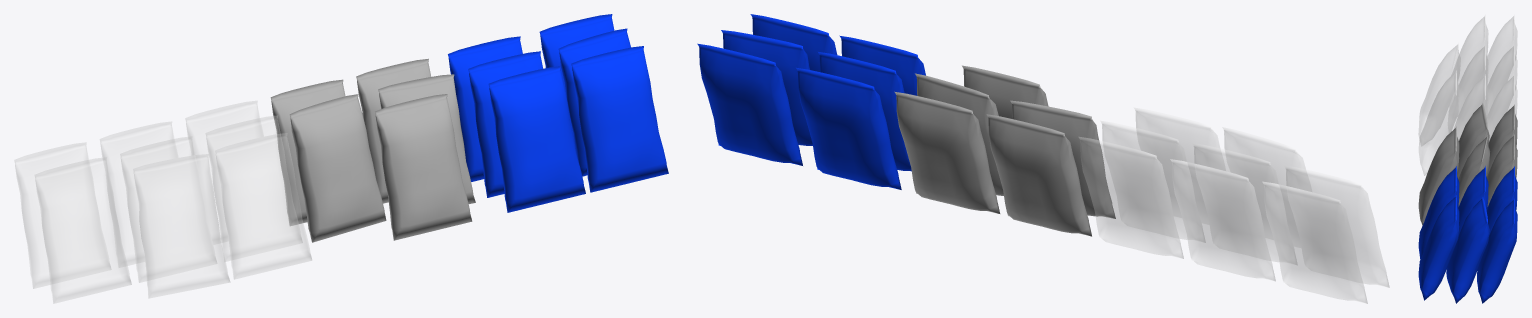
The model's file is Cake_a3h87k_Pack01.fbx.
3 renders of one model, left to right at view 1: azimuth 30°, elevation 25°; view 2: azimuth 150°, elevation 25°; view 3: azimuth 270°, elevation 25°, orthographic. The views are drawn at different scales.
Visible parts, largest first — view 1: Cake_a3h87k_Pack01; view 2: Cake_a3h87k_Pack01; view 3: Cake_a3h87k_Pack01.
Part boxes in pixels (left/top/right/bottom): Cake_a3h87k_Pack01: left=14, top=14, right=668, bottom=303; Cake_a3h87k_Pack01: left=697, top=14, right=1389, bottom=303; Cake_a3h87k_Pack01: left=1418, top=15, right=1517, bottom=303.
Bounding box in the file's own units: 101 × 18.1 × 20.01.
